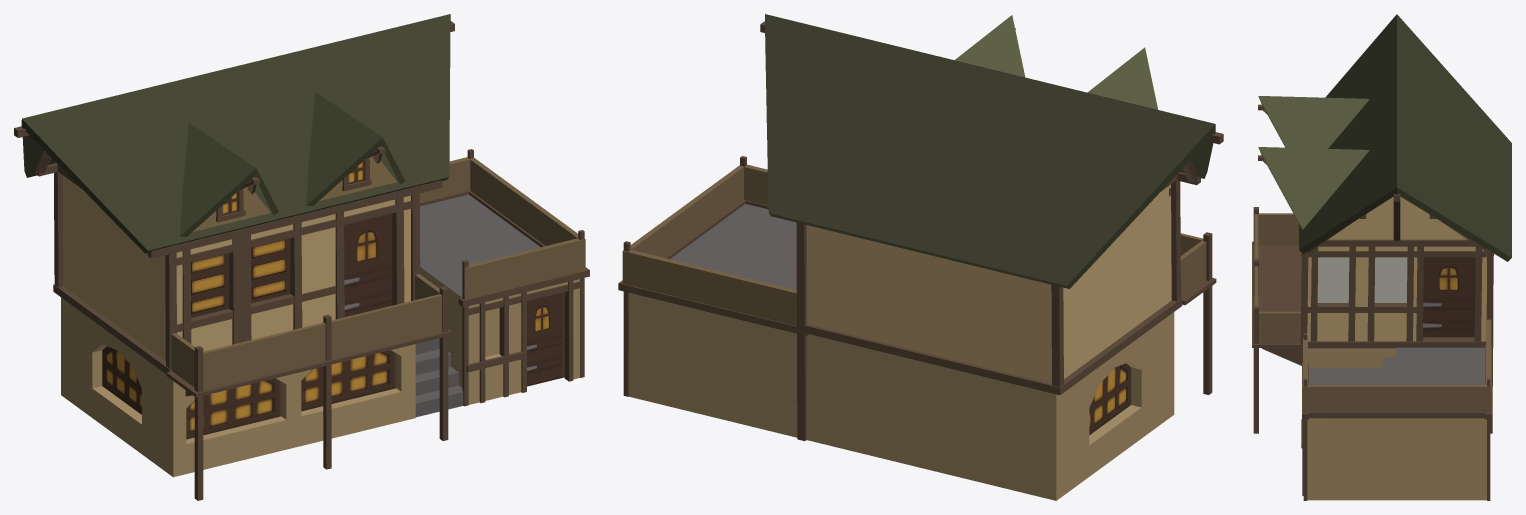
File: castle_town_house04.glb
3 renders of one model, left to right at view 1: azimuth 30°, elevation 25°; view 2: azimuth 150°, elevation 25°; view 3: azimuth 270°, elevation 25°, orthographic. The views are drawn at different scales.
Visible parts, largest first — view 1: house04; view 2: house04; view 3: house04.
Part boxes in pixels (box(x1,y1,x2,y2)): house04: box(14, 14, 589, 500); house04: box(618, 14, 1223, 500); house04: box(1252, 14, 1511, 500).
Bounding box in the file's own units: 12.03 × 7.59 × 6.33.
1 material, 1 textured.
